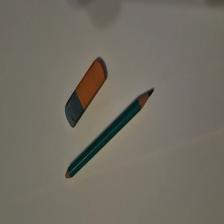eraser: (66, 61, 108, 130)
pencil: (67, 90, 156, 180)
